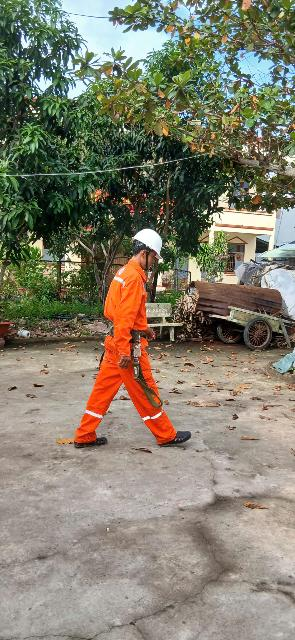harness: (103, 314, 160, 348)
helmet: (130, 223, 184, 264)
shoes: (72, 427, 111, 456), (151, 426, 192, 450)
